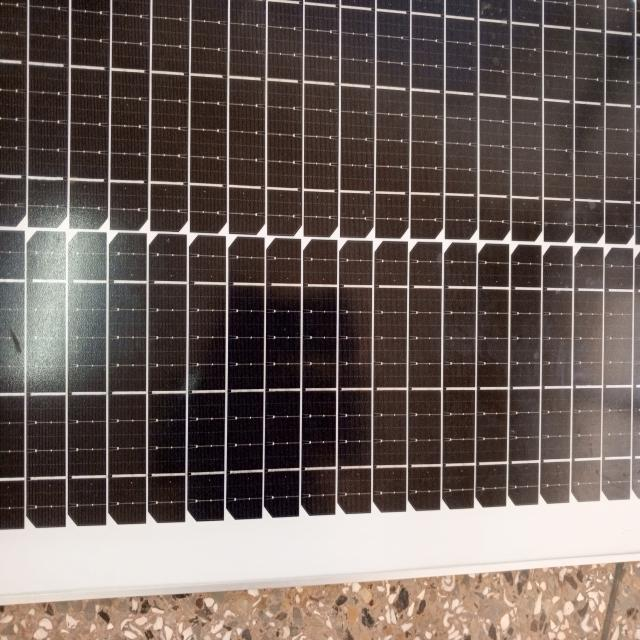Clean: (114, 0, 639, 525)
